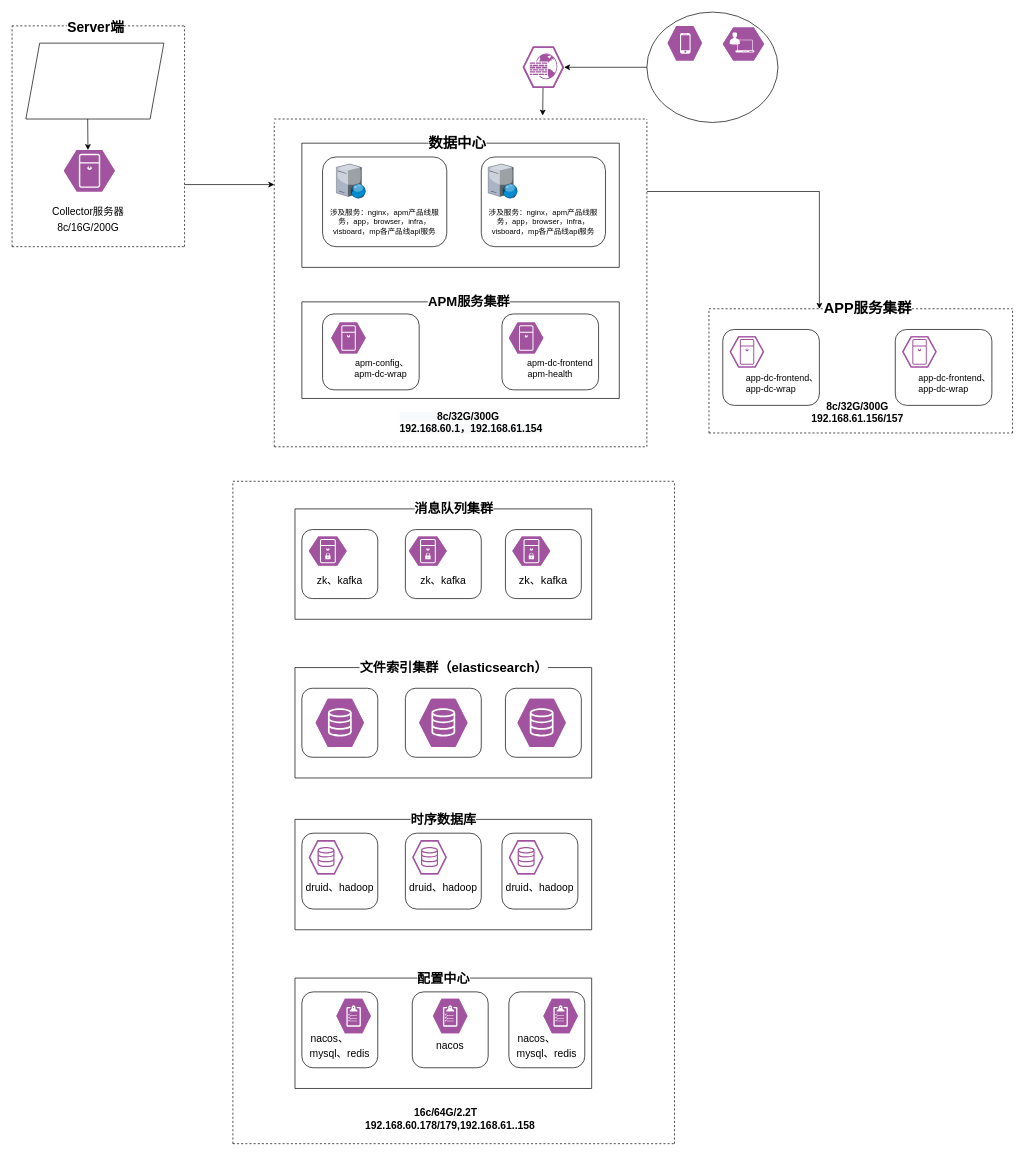
Image size: 1025x1156. Some labels were removed from this diagram. Each missing label, with the box of its shape:
Server应用数据采集: (25, 42, 164, 119)
前端应用数据采集: (646, 11, 778, 122)
